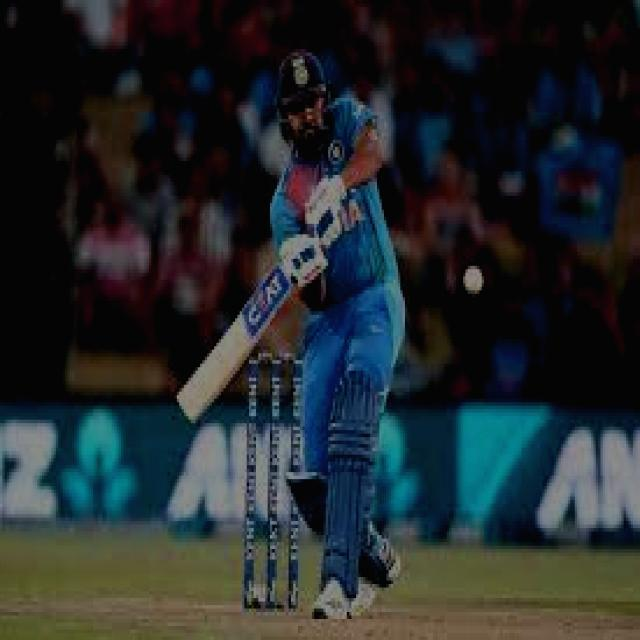toe: (170, 392, 200, 426)
